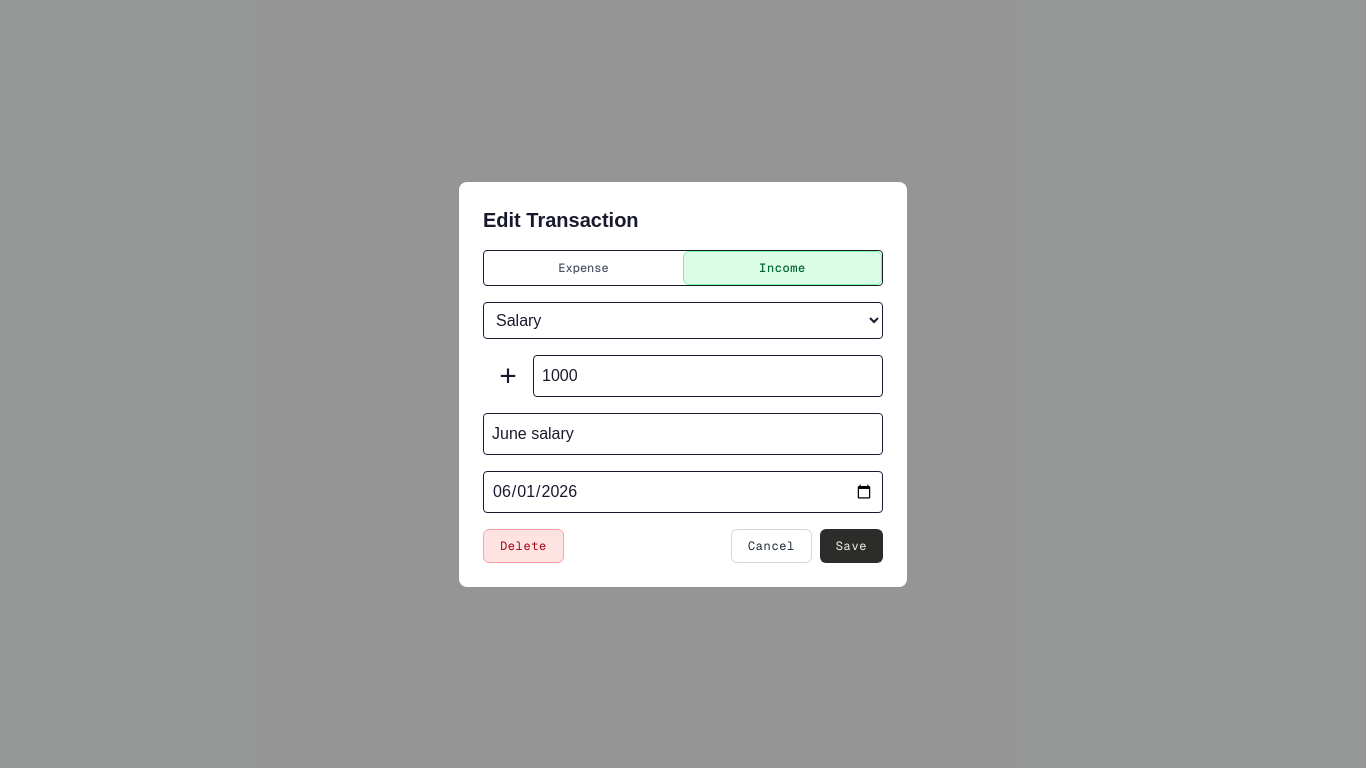
it: EditTransaction › deleting › hides the delete modal when Cancel is clicked inside it
What coordinates should you click on to do the following:
click the button "Delete"
I would click on:
 (523, 546)
Its box is x1=483 y1=528 x2=564 y2=562.
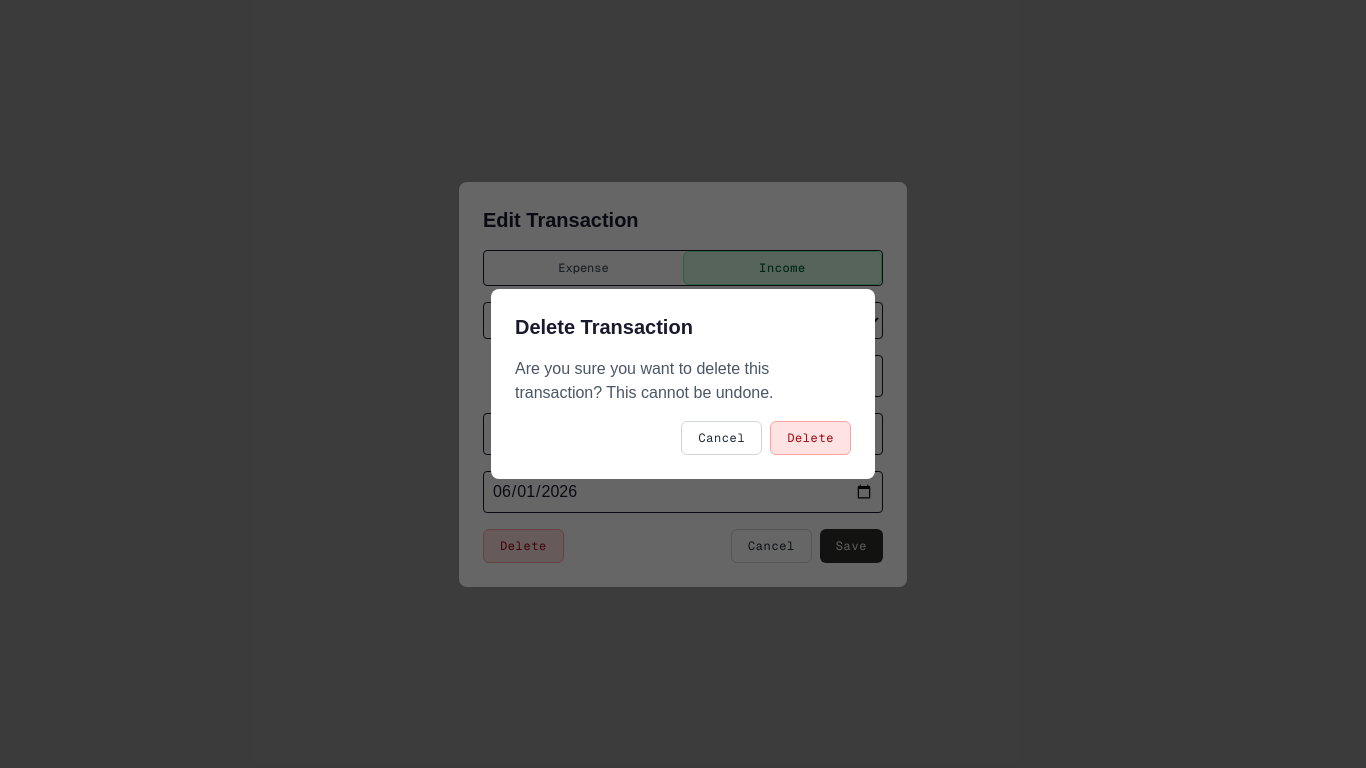
Check: the heading "Delete Transaction" is shown, box x1=515 y1=316 x2=693 y2=338
What coordinates should you click on to do the following:
click the button "Cancel"
I would click on:
 (722, 438)
Its box is x1=681 y1=421 x2=762 y2=455.
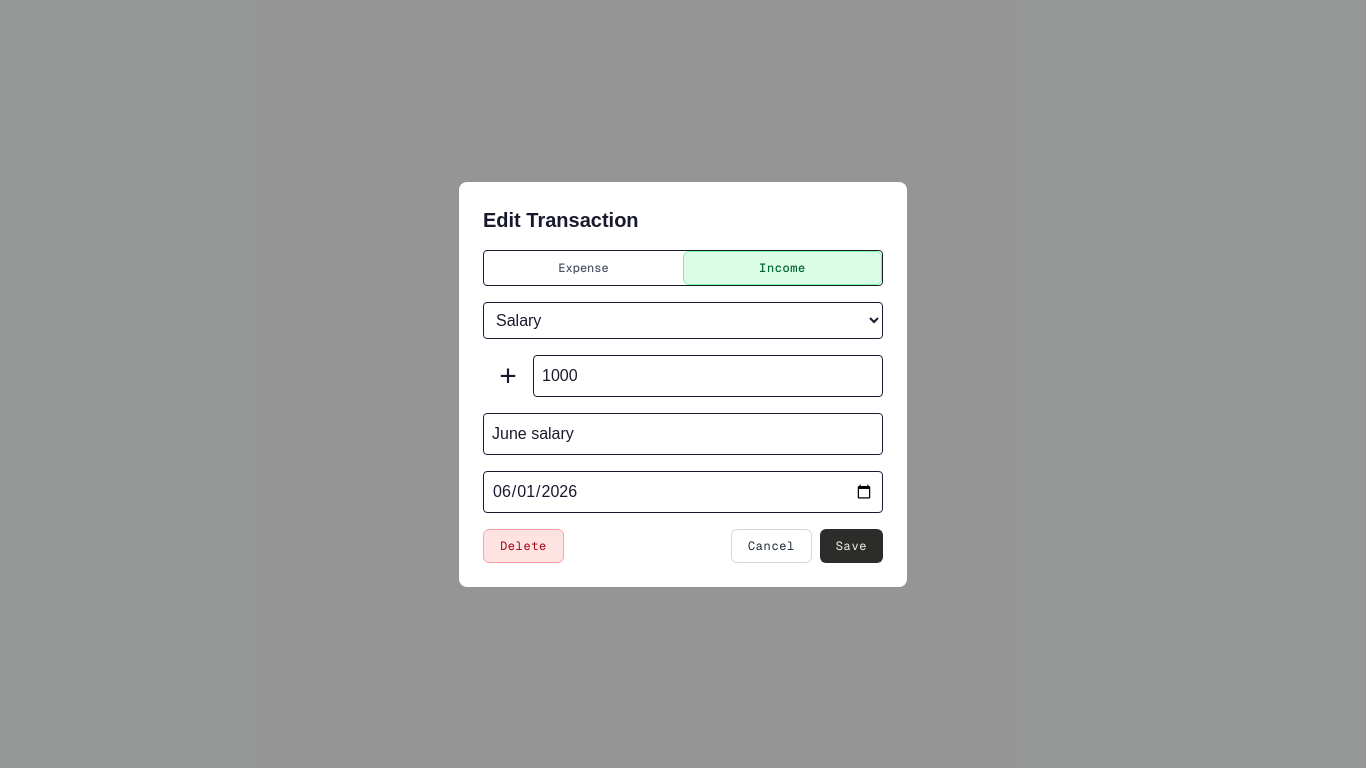
Check: the heading "Delete Transaction" is gone
